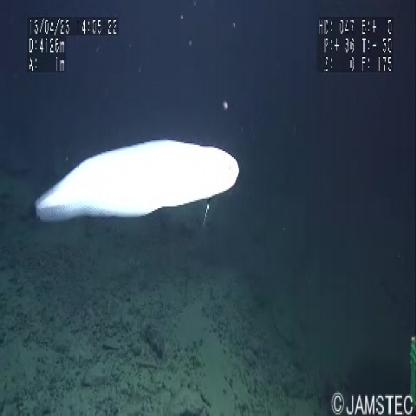Bio: (29, 134, 242, 239)
